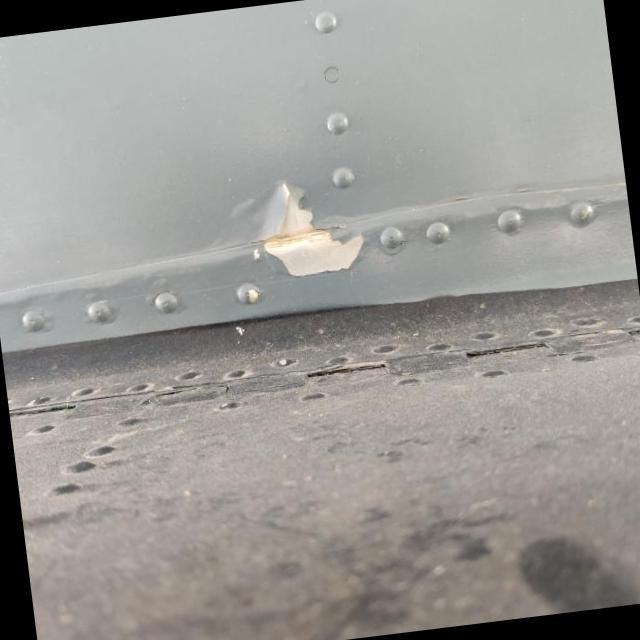Paint-off: (260, 181, 363, 276)
